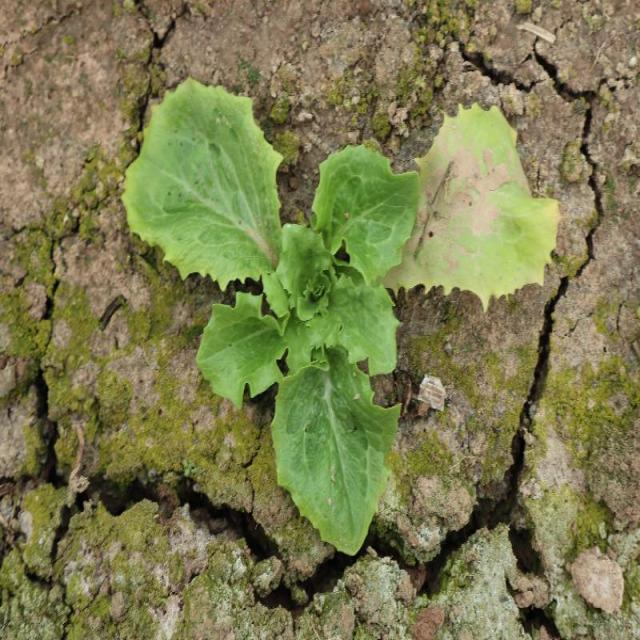crop: (122, 86, 424, 556)
